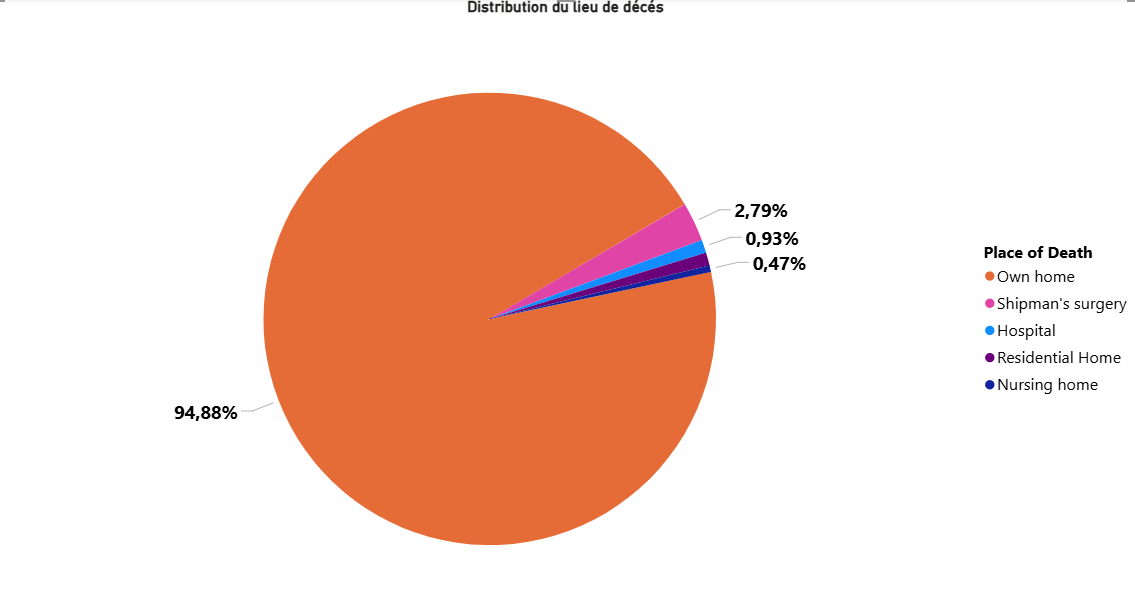

Layout of this report page (visuals, bound fields, positions):
{"tool":"powerbi","page":{"name":"lieu","canvas":[1280,720],"ordinal":4},"visuals":[{"type":"pieChart","title":"Répartition par lieu","fields":{"Category":["shipman-confirmed-victims.PlaceofDeath"],"Y":["shipman-confirmed-victims.PlaceofDeath"]},"box":[9.7,0,1240.3,676.8],"z":0}]}

Visuals, with their boxes on the page's 1280x720 design canvas (x1, y1, x2, y2). These are canvas units, not pixel positions in the 1135x612 screenshot, which may show the page scaled, cropped or inside an application window:
"Répartition par lieu" pieChart: region(10, 0, 1250, 677)
